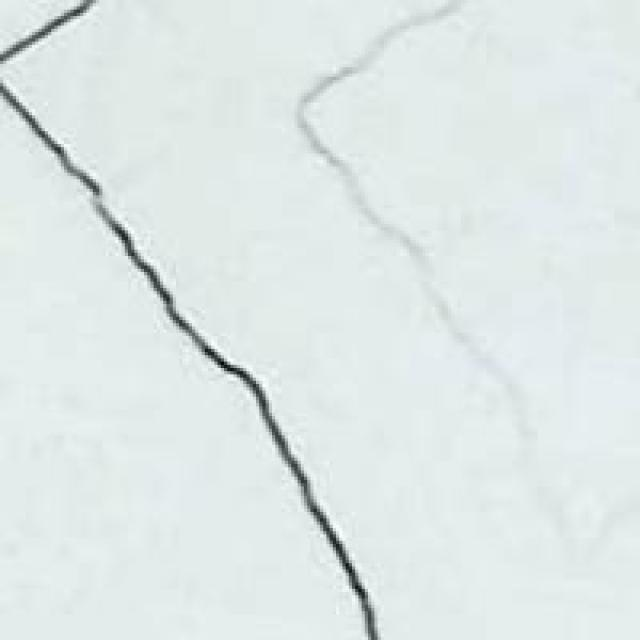Crack: (0, 0, 381, 637)
